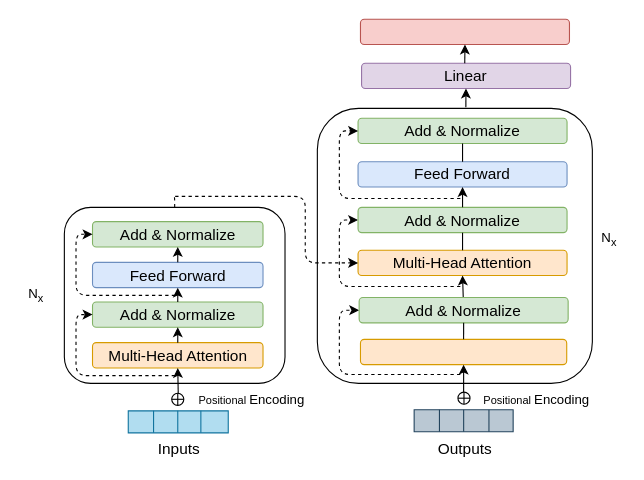
Some shapes in this 644 by 480 pixel diagram are drawn without their labels. The box of each missing label's shape, as (x1, y1, x2, y2) in pixels:
Masked Multi-Head Attention: (359, 338, 567, 365)
Softmax: (359, 18, 569, 45)
